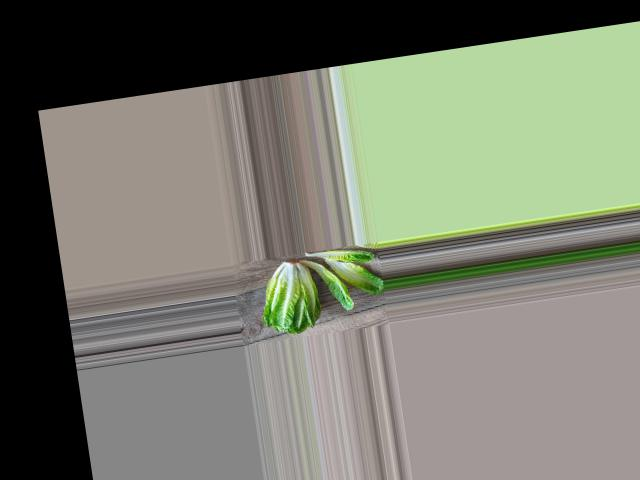lettuce: (253, 258, 326, 337)
